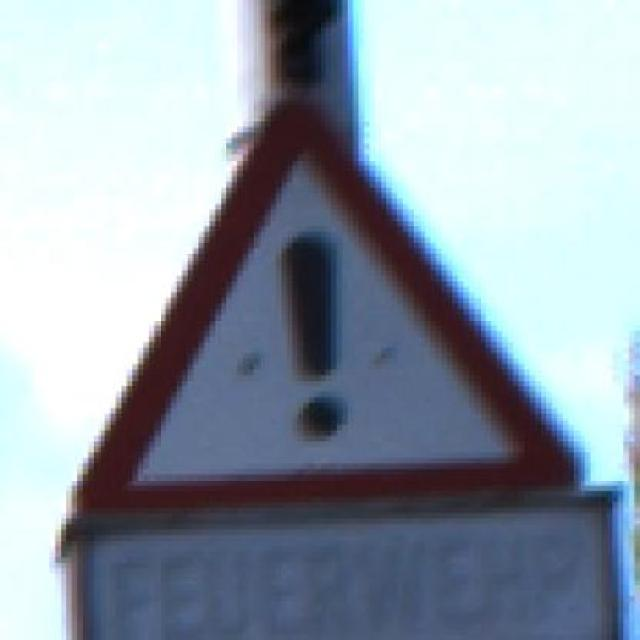Attention Please-: (11, 100, 602, 509)
